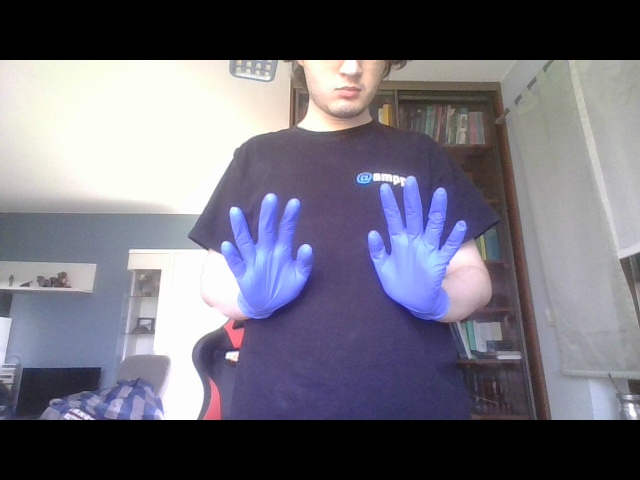glove: (365, 175, 468, 328), (221, 192, 317, 323)
